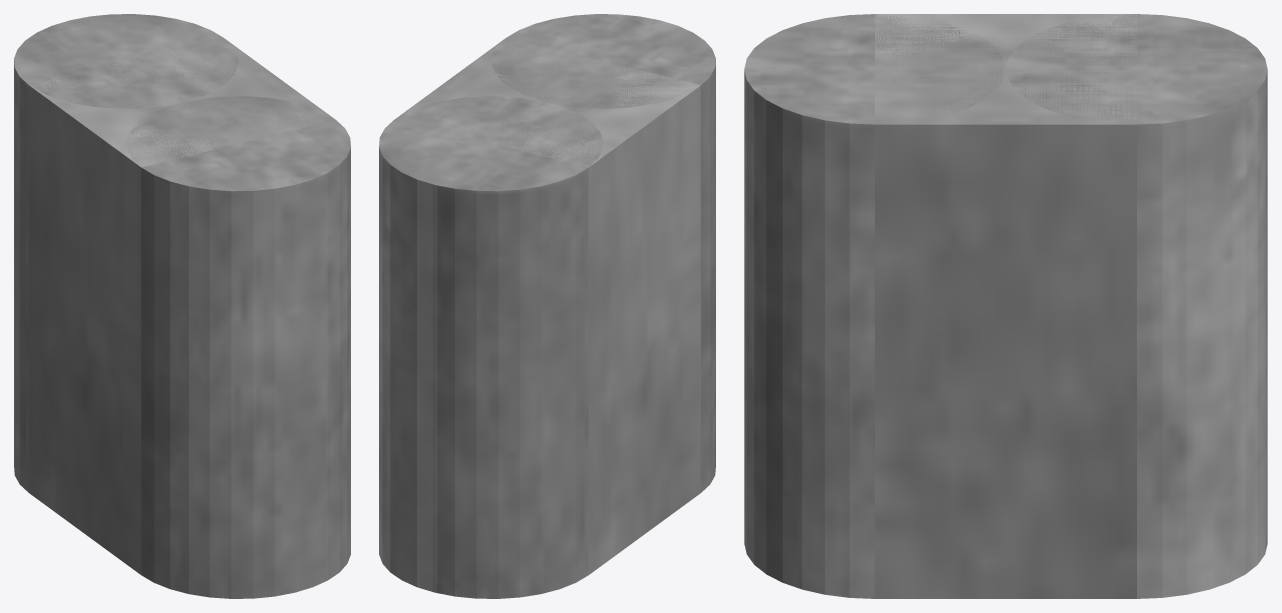
Rendered from management.obj.
3 views of the same model, side by side, from view 1: azimuth 30°, elevation 25°; view 2: azimuth 150°, elevation 25°; view 3: azimuth 270°, elevation 25° (orthographic). The views are drawn at different scales.
Visible parts, largest first — view 1: Cylinder.002; view 2: Cylinder.002; view 3: Cylinder.002.
Part boxes in pixels (x1=…): Cylinder.002: x1=14, y1=14, x2=350, y2=598; Cylinder.002: x1=379, y1=14, x2=715, y2=598; Cylinder.002: x1=744, y1=14, x2=1267, y2=598.
Bounding box in the file's own units: 2 × 4 × 4.
